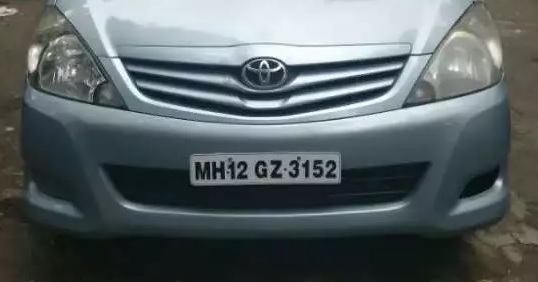licenseplate: (188, 149, 344, 188)
